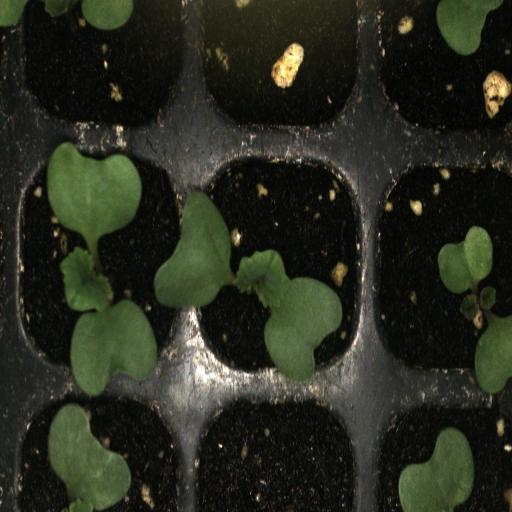Folha: (398, 427, 474, 512), (466, 313, 512, 396), (438, 225, 493, 294), (436, 0, 503, 56)
Germinacao: (187, 138, 372, 388), (3, 143, 192, 384)
